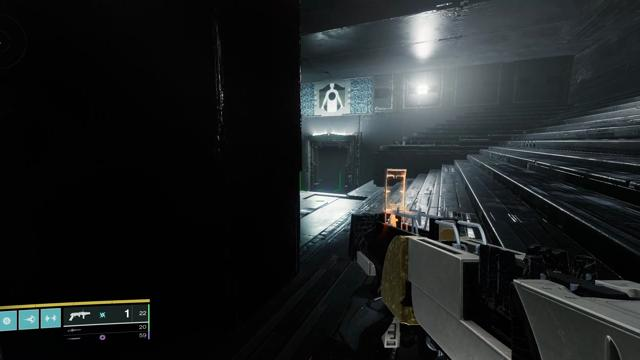grief: (319, 83, 345, 112)
